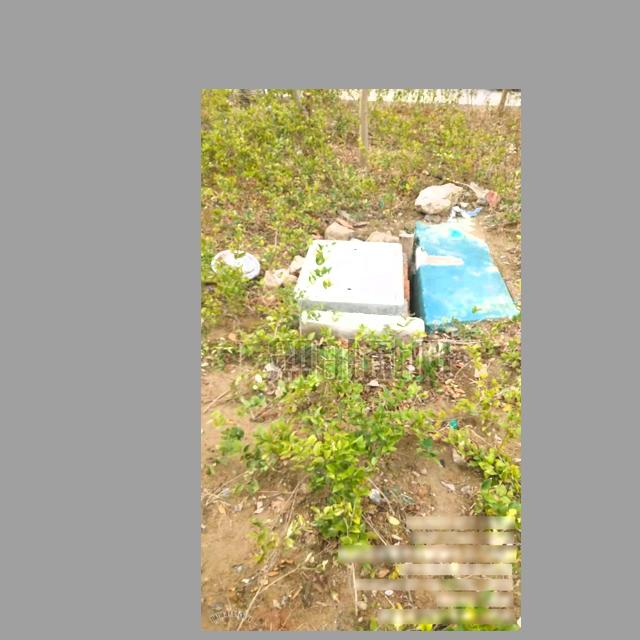circle: (286, 232, 427, 331)
